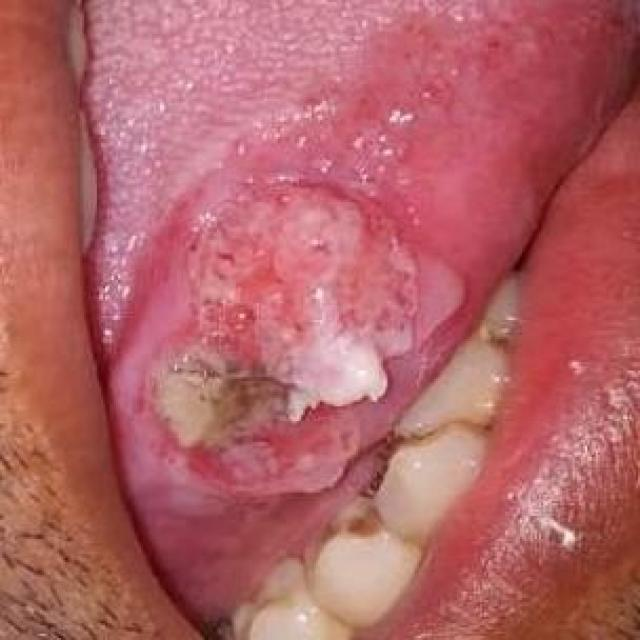cancer-detection: (108, 130, 475, 547)
processing_area: (82, 0, 638, 634)
